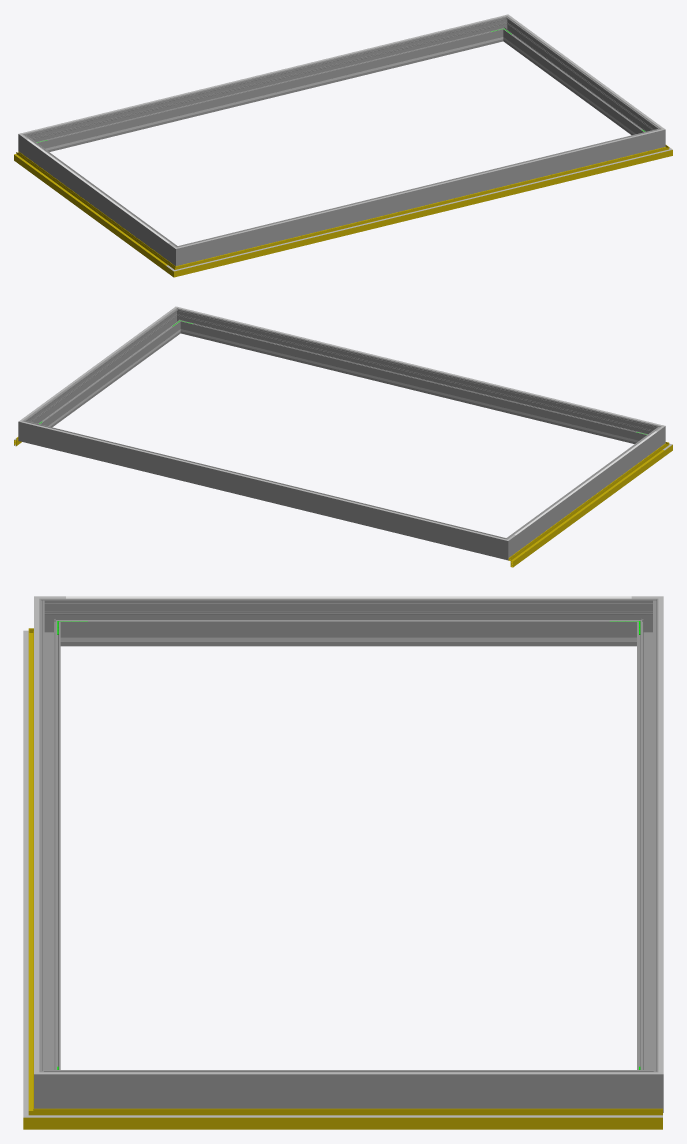
The picture shows the model from 3 angles, top to bottom: view 1: azimuth 30°, elevation 25°; view 2: azimuth 150°, elevation 25°; view 3: azimuth 270°, elevation 25°; orthographic projection. The views are drawn at different scales.
Visible parts, largest first — view 1: 3DGeom-276, 3DGeom-298, 3DGeom-90, 3DGeom-297, 3DGeom-268, 3DGeom-85, 3DGeom-244, 3DGeom-100, 3DGeom-304, 3DGeom-316, 3DGeom-105, 3DGeom-270 (+2 smaller); view 2: 3DGeom-298, 3DGeom-276, 3DGeom-297, 3DGeom-268, 3DGeom-85, 3DGeom-239, 3DGeom-304, 3DGeom-316, 3DGeom-278, 3DGeom-105, 3DGeom-313, 3DGeom-303; view 3: 3DGeom-268, 3DGeom-297, 3DGeom-97, 3DGeom-298, 3DGeom-276, 3DGeom-90, 3DGeom-100, 3DGeom-304, 3DGeom-316, 3DGeom-232, 3DGeom-98, 3DGeom-303 (+5 smaller).
Boxes of the visible parts, x1,y1,x2,y2 form: 3DGeom-276: [33, 18, 500, 151]; 3DGeom-298: [187, 131, 651, 262]; 3DGeom-90: [185, 149, 658, 273]; 3DGeom-297: [504, 21, 655, 135]; 3DGeom-268: [26, 138, 171, 260]; 3DGeom-85: [14, 151, 170, 271]; 3DGeom-244: [50, 40, 489, 149]; 3DGeom-100: [187, 152, 658, 267]; 3DGeom-304: [32, 18, 495, 131]; 3DGeom-316: [189, 132, 651, 245]; 3DGeom-105: [14, 154, 167, 265]; 3DGeom-270: [168, 242, 189, 265]; 3DGeom-298: [183, 311, 650, 443]; 3DGeom-276: [32, 423, 496, 556]; 3DGeom-297: [28, 313, 179, 427]; 3DGeom-268: [512, 430, 657, 551]; 3DGeom-85: [508, 447, 664, 567]; 3DGeom-239: [194, 332, 633, 441]; 3DGeom-304: [33, 424, 495, 537]; 3DGeom-316: [189, 310, 651, 423]; 3DGeom-278: [494, 534, 516, 560]; 3DGeom-105: [511, 450, 664, 561]; 3DGeom-313: [514, 431, 657, 534]; 3DGeom-303: [27, 312, 169, 416]; 3DGeom-268: [66, 598, 631, 646]; 3DGeom-297: [66, 1070, 631, 1108]; 3DGeom-97: [55, 1108, 662, 1129]; 3DGeom-298: [39, 610, 60, 1069]; 3DGeom-276: [637, 610, 658, 1069]; 3DGeom-90: [28, 640, 33, 1103]; 3DGeom-100: [23, 644, 28, 1103]; 3DGeom-304: [658, 610, 663, 1060]; 3DGeom-316: [34, 610, 39, 1060]; 3DGeom-232: [91, 637, 605, 641]; 3DGeom-98: [55, 1115, 662, 1117]; 3DGeom-303: [66, 1072, 631, 1074].
Size of the model in its own units: 5.49 by 0.2667 by 3.05.
